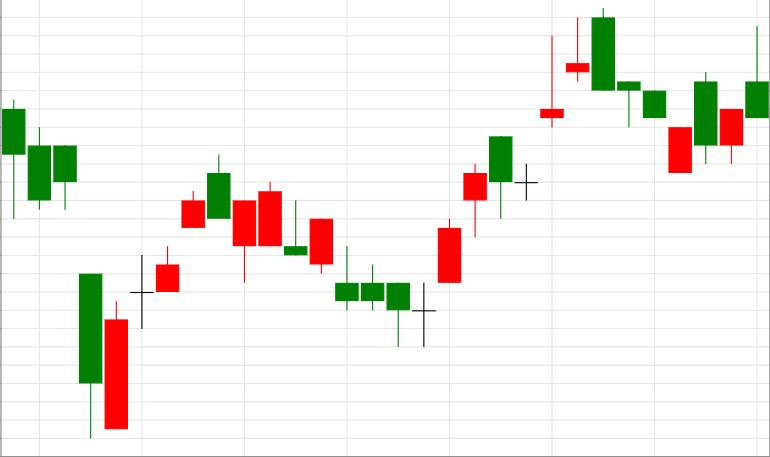bearish_engulfing_fall: (412, 8, 615, 348)
hammer_rise: (208, 154, 410, 347)
morning_star_rise: (207, 155, 461, 348)
